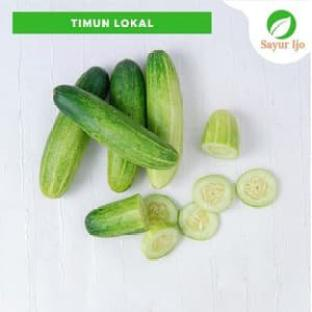Cucumber: (55, 86, 178, 169), (40, 114, 89, 198), (146, 50, 183, 153), (86, 195, 147, 237), (111, 60, 145, 124), (201, 110, 240, 159), (193, 175, 235, 212), (178, 203, 219, 240), (237, 169, 277, 206), (142, 225, 178, 258), (145, 194, 177, 225)
